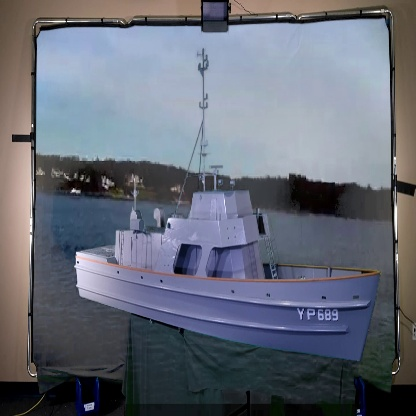YP689: (74, 47, 384, 366)
